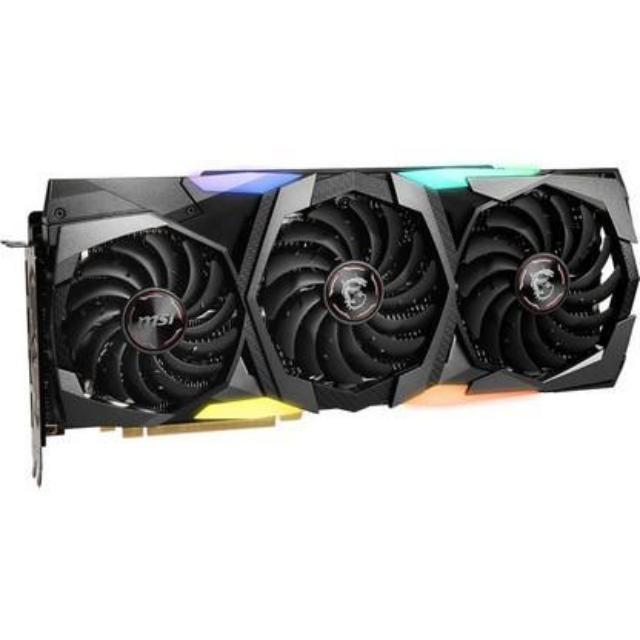GPU: (28, 154, 640, 442)
